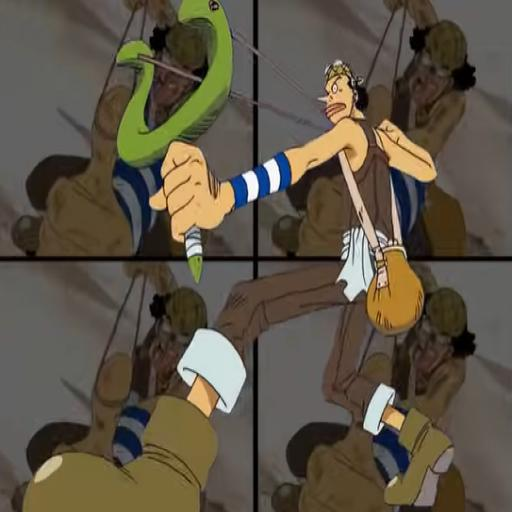Usopp: (33, 2, 462, 510)
